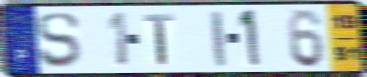1: (236, 8, 262, 70), (106, 10, 129, 70)
6: (286, 7, 327, 70)
I: (208, 9, 228, 69)
S: (35, 11, 81, 70)
T: (142, 12, 176, 66)
